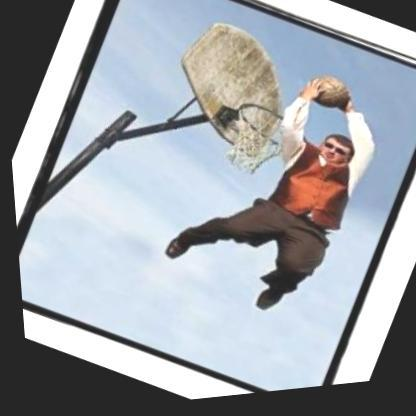basketball: (296, 70, 353, 127)
